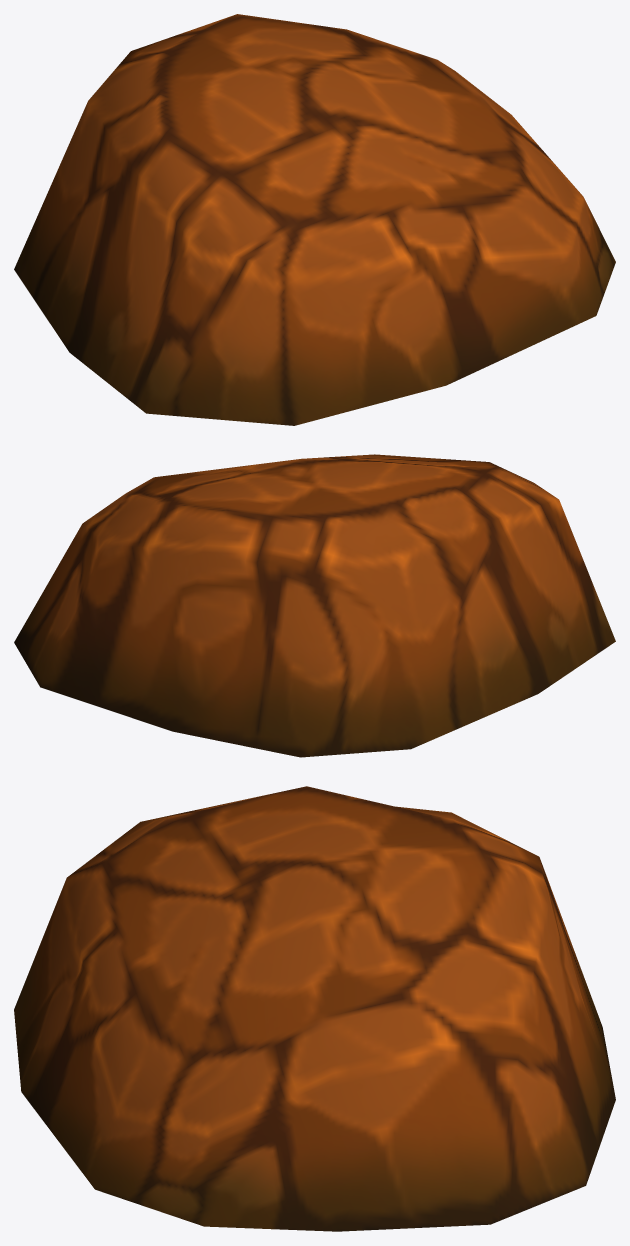
Rendered from Rock_02.FBX.
3 views of the same model, one above another, from view 1: azimuth 30°, elevation 25°; view 2: azimuth 150°, elevation 25°; view 3: azimuth 270°, elevation 25° (orthographic). The views are drawn at different scales.
Visible parts, largest first — view 1: Rock_02; view 2: Rock_02; view 3: Rock_02.
Boxes of the visible parts, box(x1,y1,x2,y2) form: Rock_02: box(14, 14, 615, 425); Rock_02: box(14, 454, 615, 757); Rock_02: box(14, 786, 615, 1231).
Size of the model in its own units: 223 by 85.15 by 207.
